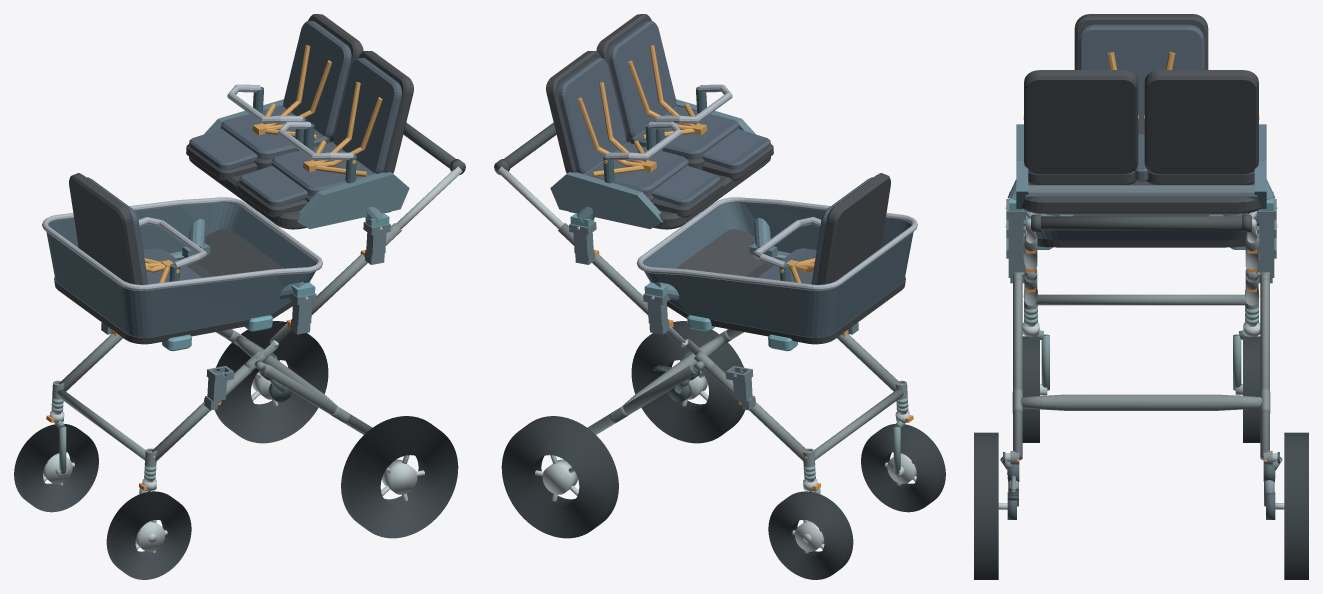
Rendered from D29_w650_state1_wheel_L.glb.
3 renders of one model, left to right at view 1: azimuth 30°, elevation 25°; view 2: azimuth 150°, elevation 25°; view 3: azimuth 270°, elevation 25°, orthographic. The views are drawn at different scales.
Parts seen in each view (by area): view 1: D29_Lower, D29_Upper, RL_tire.008, RR_tire.008, FL_tire.008, FR_tire.008, V46_rear_leg_-1.009, main_lower_-1.009, front_fixed_round_tube.008, D29_Lower_Mount_M, main_upper_-1.009, RL_sealed_hub.008 (+8 smaller); view 2: D29_Lower, D29_Upper, RR_tire.008, RL_tire.008, FR_tire.008, FL_tire.008, V46_rear_leg_1.009, main_lower_1.009, front_fixed_round_tube.008, D29_Lower_Mount_M, main_upper_1.009, RR_sealed_hub.008 (+8 smaller); view 3: D29_Upper, D29_Lower, V46_rearbar.009, RL_tire.008, RR_tire.008, round_handle.008, front_fixed_round_tube.008, FL_tire.008, FR_tire.008, V46_rear_leg_1.009, V46_rear_leg_-1.009, Universal_Cabin_Receiver_H_1 (+4 smaller).
Boxes of the visible parts, box(x1,y1,x2,y2) form: D29_Lower: box(42, 173, 322, 351); D29_Upper: box(186, 14, 413, 229); RL_tire.008: box(341, 416, 458, 538); RR_tire.008: box(214, 321, 328, 443); FL_tire.008: box(106, 491, 191, 579); FR_tire.008: box(14, 424, 98, 512); V46_rear_leg_-1.009: box(262, 364, 372, 434); main_lower_-1.009: box(151, 364, 254, 461); front_fixed_round_tube.008: box(56, 389, 145, 460); D29_Lower_Mount_M: box(182, 218, 315, 300); main_upper_-1.009: box(311, 223, 401, 315); RL_sealed_hub.008: box(382, 459, 417, 494); D29_Lower: box(637, 173, 917, 351); D29_Upper: box(546, 14, 773, 229); RR_tire.008: box(501, 416, 618, 538); RL_tire.008: box(631, 321, 745, 443); FR_tire.008: box(768, 491, 853, 579); FL_tire.008: box(861, 424, 945, 512); V46_rear_leg_1.009: box(587, 364, 697, 434); main_lower_1.009: box(705, 364, 808, 461); front_fixed_round_tube.008: box(814, 389, 903, 460); D29_Lower_Mount_M: box(644, 217, 777, 300); main_upper_1.009: box(558, 223, 648, 315); RR_sealed_hub.008: box(542, 459, 577, 494); D29_Upper: box(1016, 70, 1266, 213); D29_Lower: box(1026, 14, 1256, 249); V46_rearbar.009: box(1020, 394, 1262, 410); RL_tire.008: box(974, 432, 998, 579); RR_tire.008: box(1284, 432, 1308, 579); round_handle.008: box(1031, 216, 1251, 230); front_fixed_round_tube.008: box(1036, 294, 1246, 305); FL_tire.008: box(1022, 336, 1039, 442); FR_tire.008: box(1243, 336, 1260, 442); V46_rear_leg_1.009: box(1260, 278, 1269, 460); V46_rear_leg_-1.009: box(1013, 278, 1022, 460); Universal_Cabin_Receiver_H_1: box(1257, 199, 1276, 253).
Size of the model in its own units: 1.2 by 1.39 by 0.8171.
